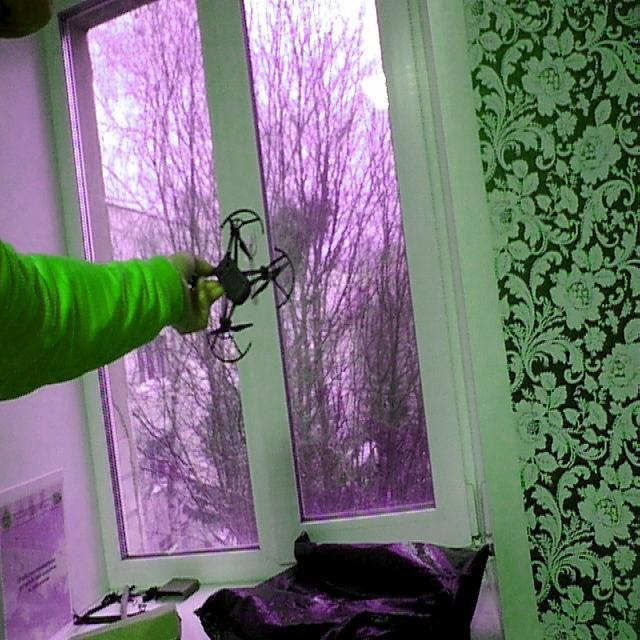drone: (172, 202, 298, 370)
